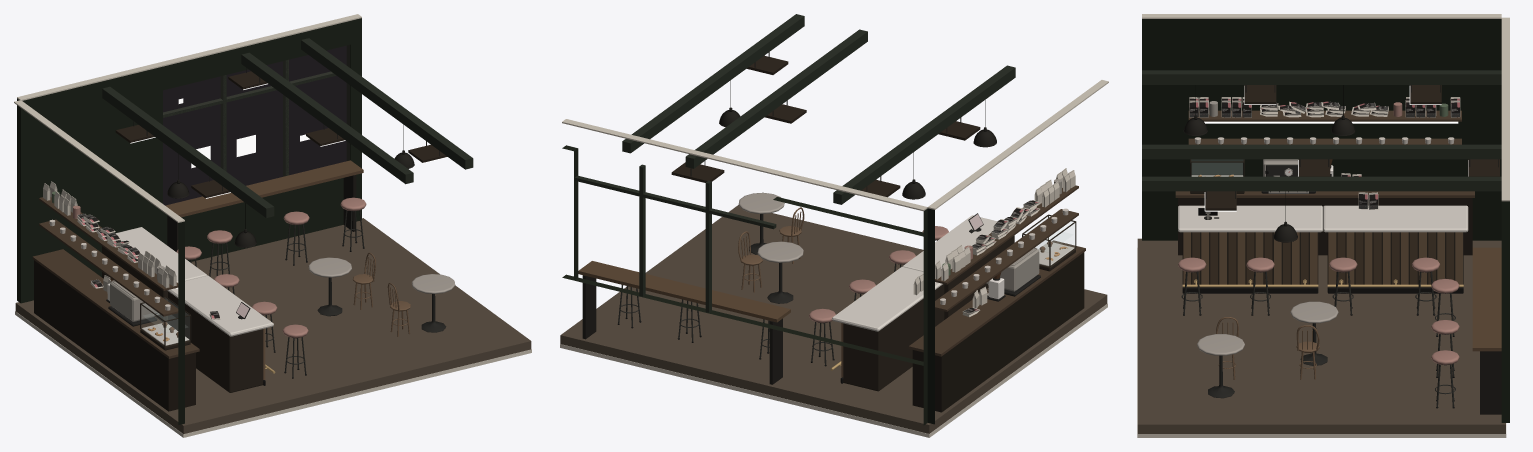
File: room.glb
The picture shows the model from 3 angles, left to right: view 1: azimuth 30°, elevation 25°; view 2: azimuth 150°, elevation 25°; view 3: azimuth 270°, elevation 25°; orthographic projection. The views are drawn at different scales.
Visible parts, largest first — view 1: cafe_static, street_backdrop, beam_1, beam_2, beam_3, cut_floor, prop_bag-stock, cut_wall_window, prop_pastry-case, cut_wall_bar, prop_espresso, prop_stool-4 (+5 smaller); view 2: cafe_static, beam_1, beam_3, beam_2, prop_bag-stock, cut_floor, cut_wall_window, cut_wall_bar, prop_pastry-case, prop_espresso, prop_chair-1, prop_stool-1; view 3: cafe_static, beam_2, beam_3, beam_1, prop_bag-stock, cut_wall_bar, cut_floor, cut_wall_window, prop_pastry-case, prop_espresso, prop_stool-3, prop_stool-4 (+6 smaller).
Boxes of the visible parts, left/top/right/bottom form: cafe_static: left=15, top=18, right=531, bottom=434; street_backdrop: left=163, top=45, right=346, bottom=205; beam_1: left=102, top=86, right=274, bottom=217; beam_2: left=241, top=52, right=413, bottom=184; beam_3: left=301, top=38, right=473, bottom=169; cut_floor: left=15, top=311, right=531, bottom=437; prop_bag-stock: left=43, top=181, right=176, bottom=288; cut_wall_window: left=17, top=14, right=361, bottom=100; prop_pastry-case: left=140, top=297, right=191, bottom=350; cut_wall_bar: left=14, top=100, right=184, bottom=222; prop_espresso: left=108, top=280, right=159, bottom=326; prop_stool-4: left=282, top=324, right=308, bottom=378; cafe_static: left=560, top=52, right=1107, bottom=433; beam_1: left=833, top=65, right=1015, bottom=204; beam_3: left=622, top=14, right=804, bottom=153; beam_2: left=685, top=29, right=867, bottom=168; prop_bag-stock: left=935, top=168, right=1075, bottom=281; cut_floor: left=560, top=303, right=1107, bottom=437; cut_wall_window: left=562, top=119, right=927, bottom=211; cut_wall_bar: left=927, top=80, right=1108, bottom=209; prop_pastry-case: left=1022, top=214, right=1076, bottom=271; prop_espresso: left=986, top=247, right=1040, bottom=296; prop_chair-1: left=738, top=231, right=762, bottom=292; prop_stool-1: left=809, top=308, right=835, bottom=366; cafe_static: left=1137, top=19, right=1509, bottom=433; beam_2: left=1142, top=144, right=1501, bottom=159; beam_3: left=1142, top=176, right=1501, bottom=191; beam_1: left=1142, top=70, right=1501, bottom=84; prop_bag-stock: left=1189, top=97, right=1460, bottom=117; cut_wall_bar: left=1142, top=14, right=1501, bottom=18; cut_floor: left=1137, top=248, right=1506, bottom=437; cut_wall_window: left=1501, top=17, right=1509, bottom=201; prop_pastry-case: left=1190, top=159, right=1244, bottom=193; prop_espresso: left=1261, top=159, right=1315, bottom=193; prop_stool-3: left=1246, top=257, right=1274, bottom=315; prop_stool-4: left=1178, top=257, right=1206, bottom=315.
Size of the model in its own units: 6.19 by 3.62 by 5.31.
Materials: 125 (6 with a texture image).
